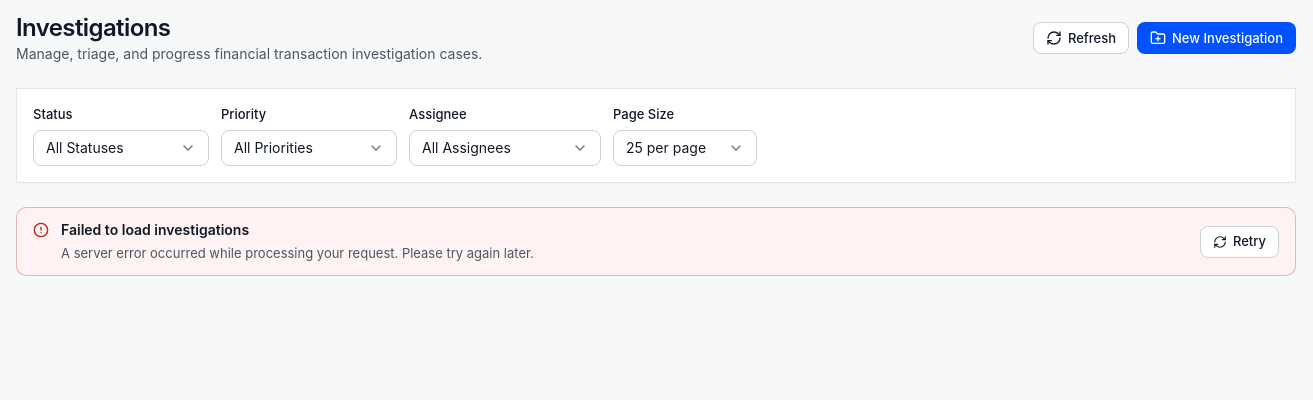
Scenario: InvestigationsQueuePage component (F5.2–F5.3) › handles 500 API failure with retry action
Expected: the message is shown, [16,207,1296,276]
Expected: the text "Failed to load investigations" is shown, [61,221,249,238]
Click the button "Retry".
click(1240, 242)  # box [1200,226,1279,258]
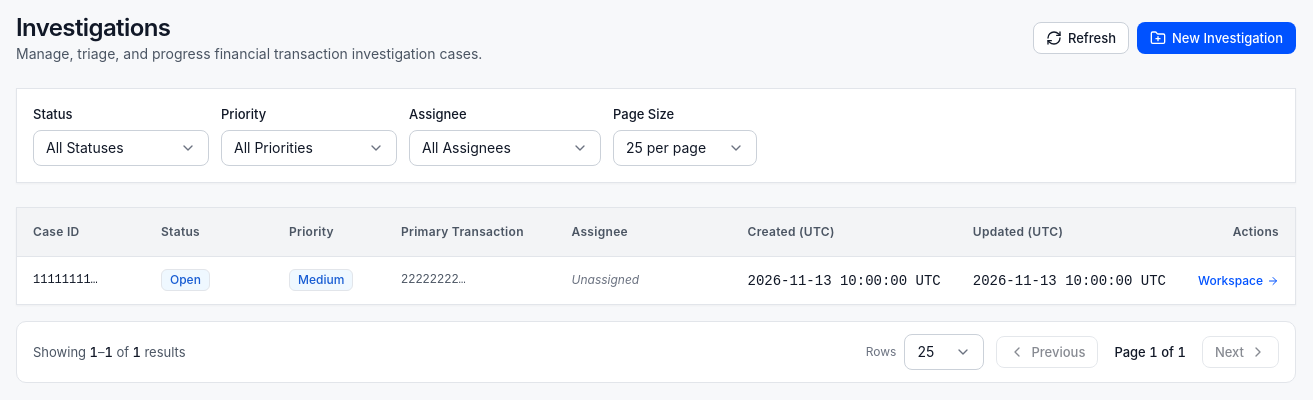
Now the element with test id "investigation-queue-table" is shown, box [16,207,1296,383]
